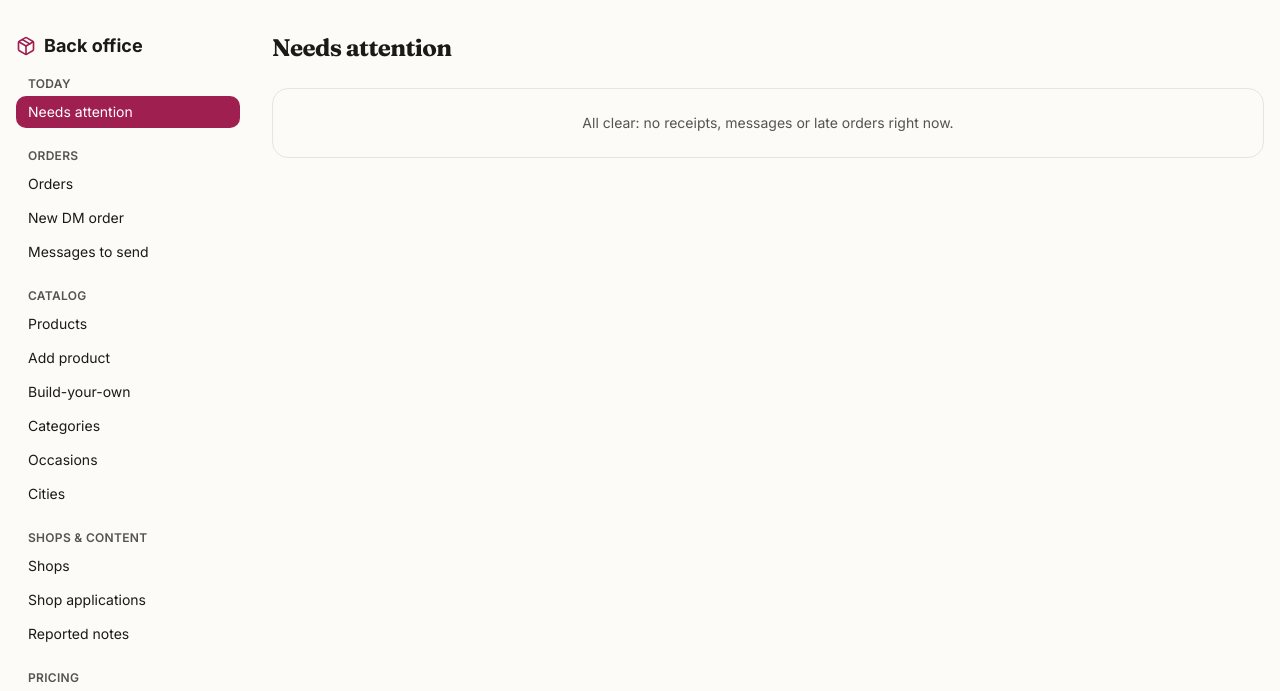
Test case: AdminDashboard sections › opens on what needs attention and switches to the shop applications queue
Check: the heading reads "Needs attention", box x1=272 y1=33 x2=452 y2=62
Check: the text "All clear: no receipts, messages or late orders right now." is shown, box x1=582 y1=114 x2=954 y2=131
What coordinates should you click on to do the following:
click the button "Shop applications"
I would click on:
 (128, 600)
Its box is x1=16 y1=584 x2=240 y2=616.
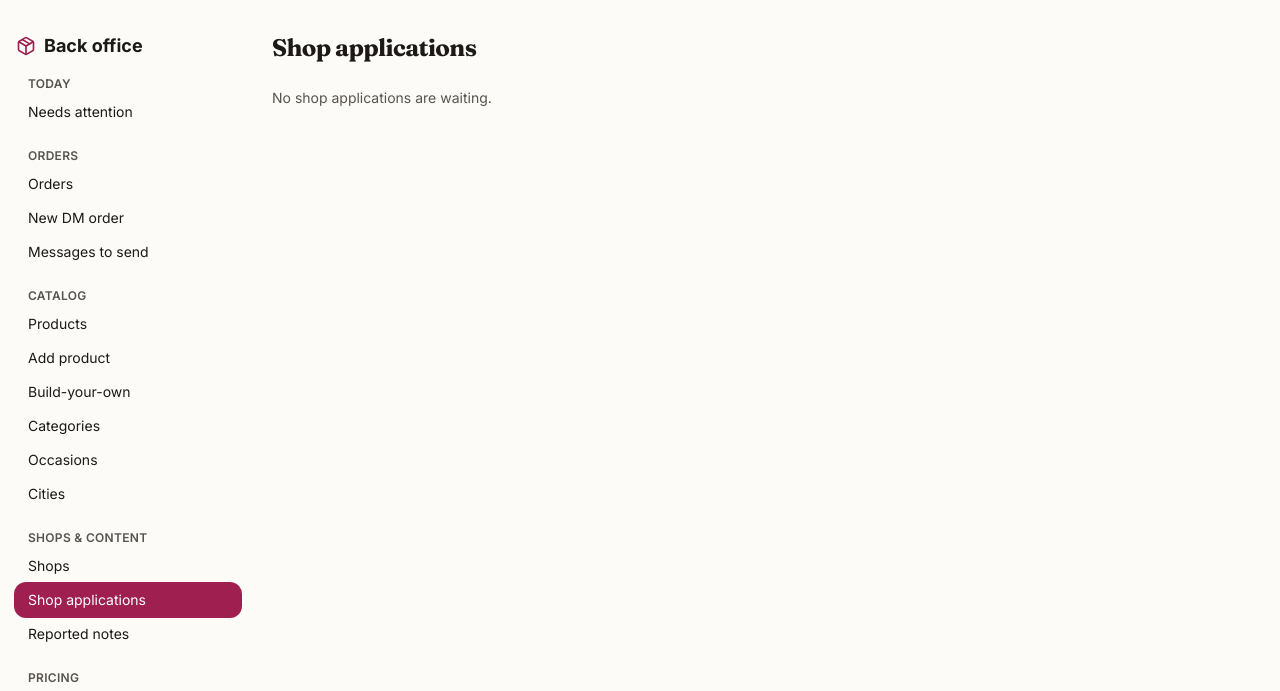
Check: the text "No shop applications are waiting." is shown, box x1=272 y1=89 x2=492 y2=106
Check: the text "All clear" is gone
